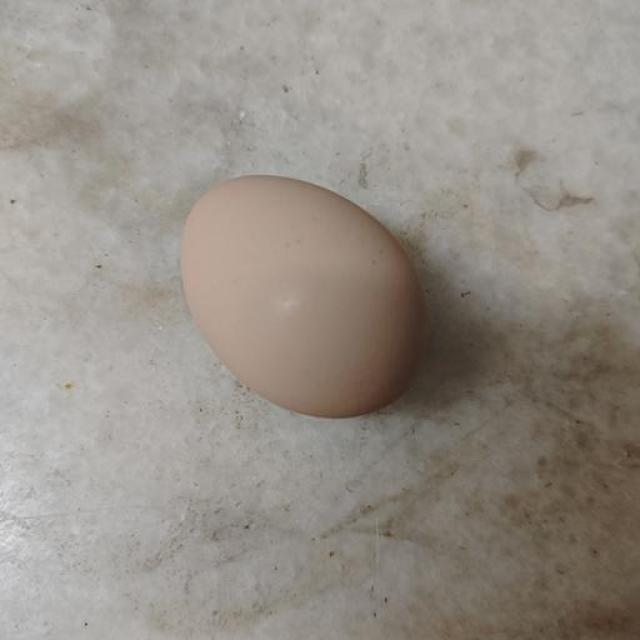organic: (182, 177, 423, 417)
